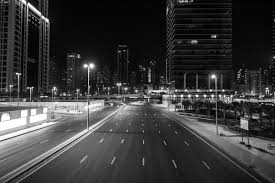strada: (14, 128, 263, 182)
